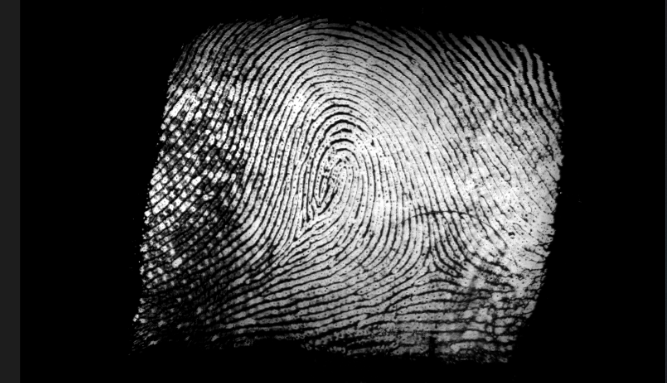deltas: (406, 238, 458, 295)
nucleo: (308, 158, 345, 212)
